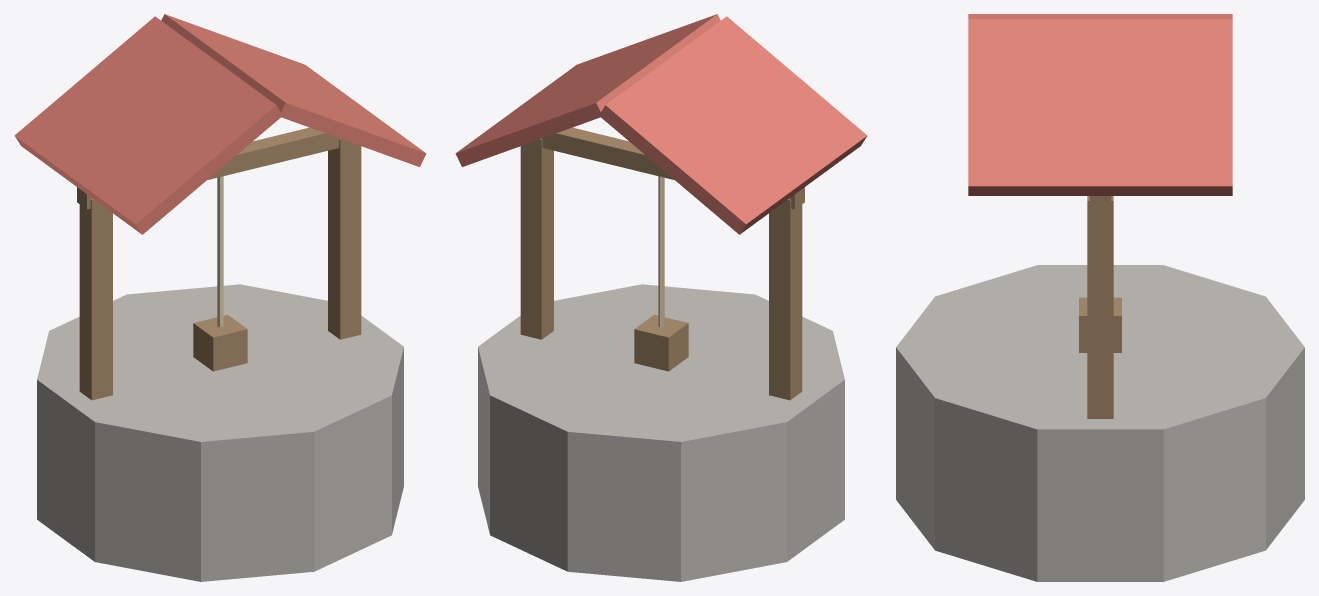
File: well.glb
3 views of the same model, side by side, from view 1: azimuth 30°, elevation 25°; view 2: azimuth 150°, elevation 25°; view 3: azimuth 270°, elevation 25° (orthographic). The views are drawn at different scales.
Parts seen in each view (by area): view 1: well; view 2: well; view 3: well.
Part boxes in pixels (left/top/right/bottom): well: left=14, top=14, right=426, bottom=581; well: left=455, top=14, right=867, bottom=581; well: left=896, top=14, right=1304, bottom=581.
Bounding box in the file's own units: 3.23 × 4.44 × 3.4.
